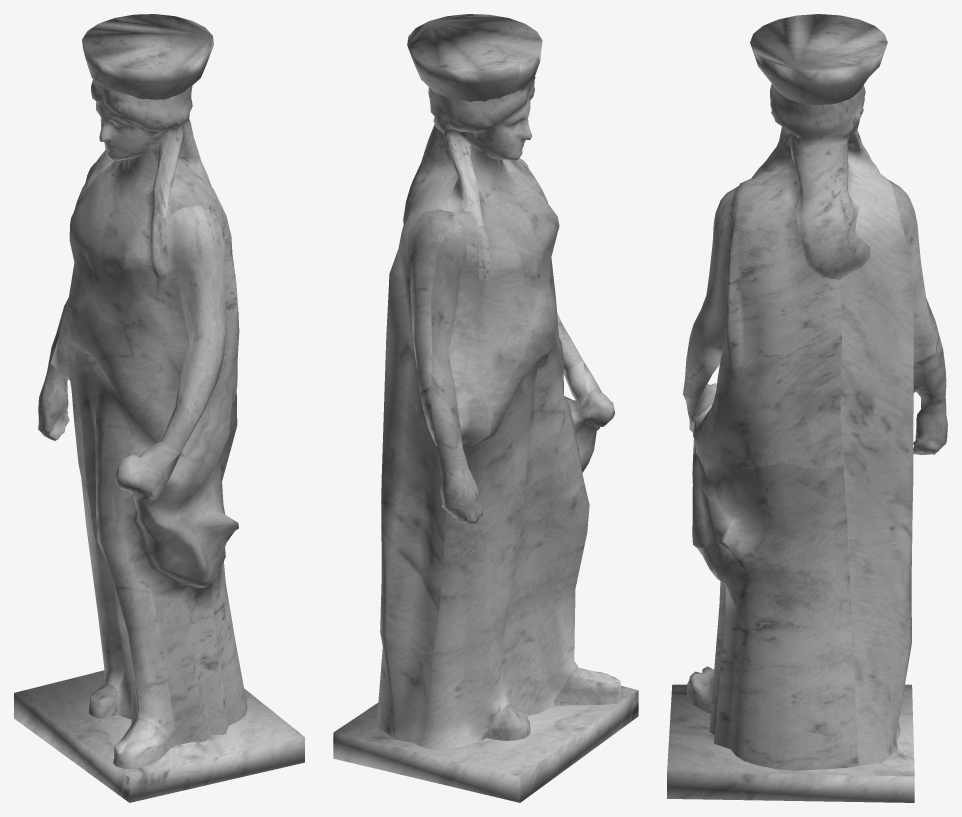
3 renders of one model, left to right at view 1: azimuth 30°, elevation 25°; view 2: azimuth 150°, elevation 25°; view 3: azimuth 270°, elevation 25°, orthographic. The views are drawn at different scales.
Visible parts, largest first — view 1: Spouse; view 2: Spouse; view 3: Spouse.
Boxes of the visible parts, <box> form: Spouse: <box>14,14,304,802</box>; Spouse: <box>333,14,638,802</box>; Spouse: <box>667,14,947,802</box>.
Size of the model in its own units: 236 by 857 by 305.
Materials: 1 (1 with a texture image).
